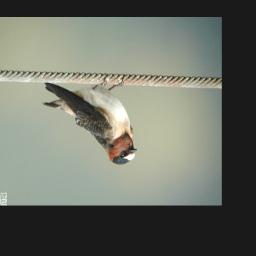Swallow: (41, 76, 141, 169)
